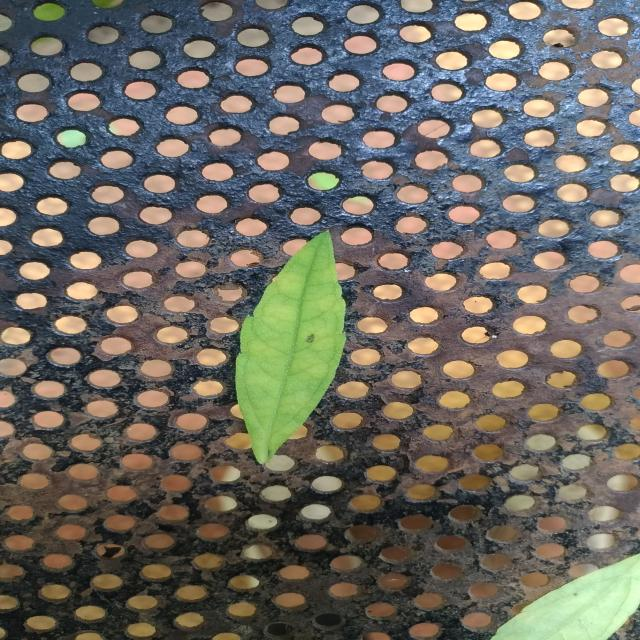bringaraja: (236, 231, 344, 464)
